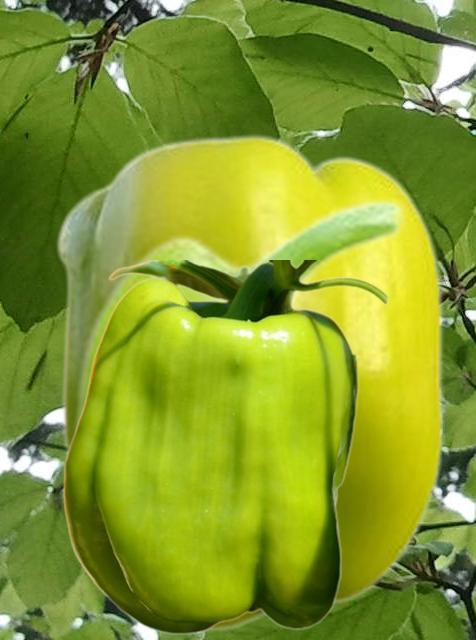bell_pepper: (55, 132, 443, 631), (62, 260, 388, 634), (72, 196, 407, 434)
